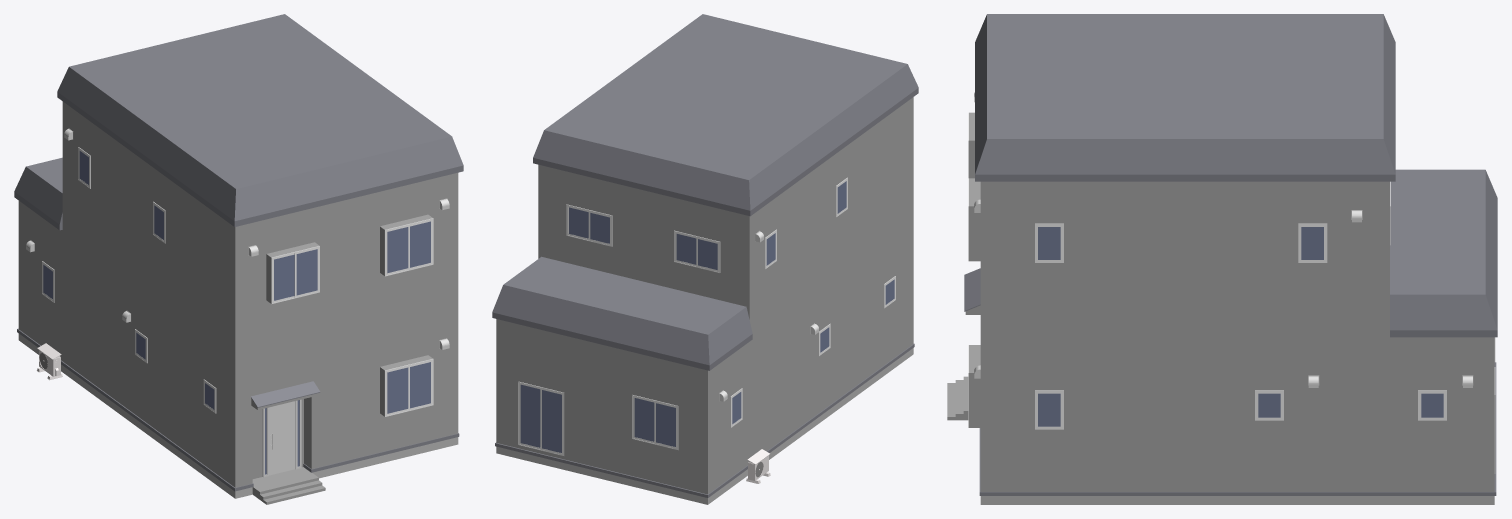
File: MobHouse4.fbx
3 renders of one model, left to right at view 1: azimuth 30°, elevation 25°; view 2: azimuth 150°, elevation 25°; view 3: azimuth 270°, elevation 25°, orthographic. The views are drawn at different scales.
Parts seen in each view (by area): view 1: Flat_half_house01.004; view 2: Flat_half_house01.004; view 3: Flat_half_house01.004.
Boxes of the visible parts, left/top/right/bottom form: Flat_half_house01.004: left=14, top=14, right=463, bottom=504; Flat_half_house01.004: left=492, top=14, right=918, bottom=504; Flat_half_house01.004: left=947, top=14, right=1497, bottom=504.
Size of the model in its own units: 6.58 by 7.87 by 10.79.
